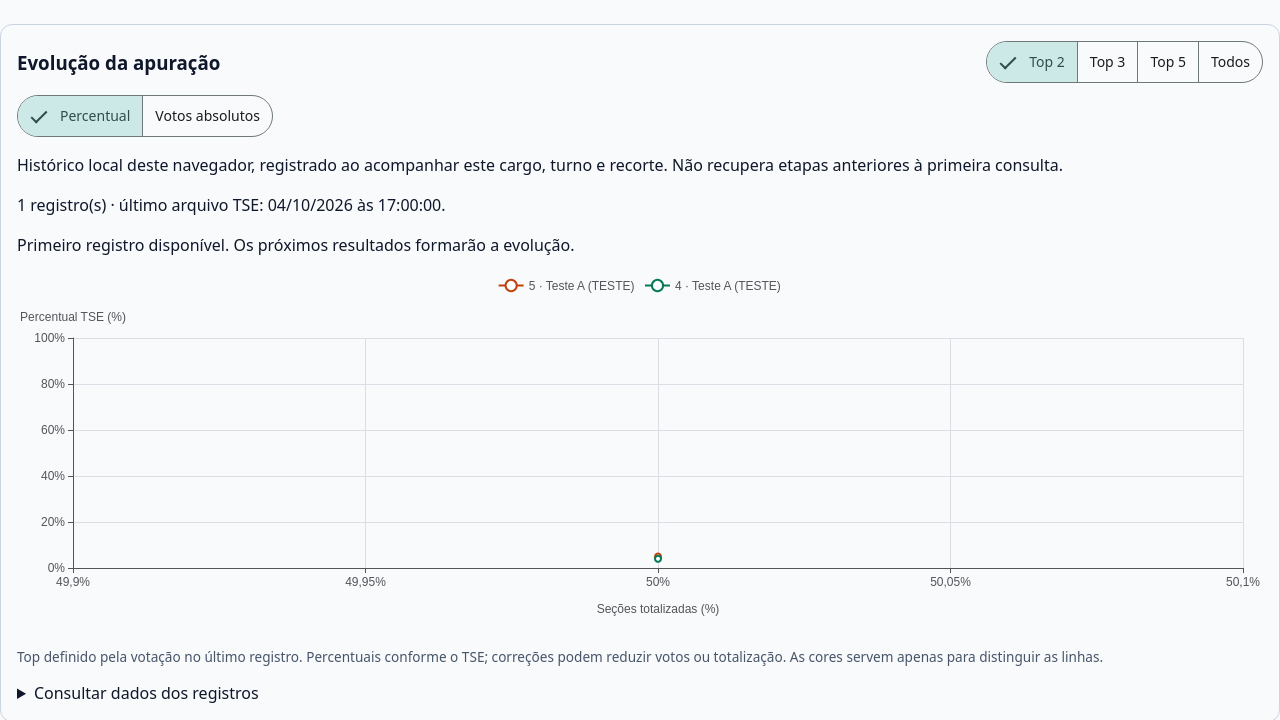
Test: Election evolution panel › updates Top 2/3/5/All from the controls and refreshes when a new observation is saved
Click the radio button labelled "Top 3". click: (1108, 62)
box: [1078, 42, 1137, 82]
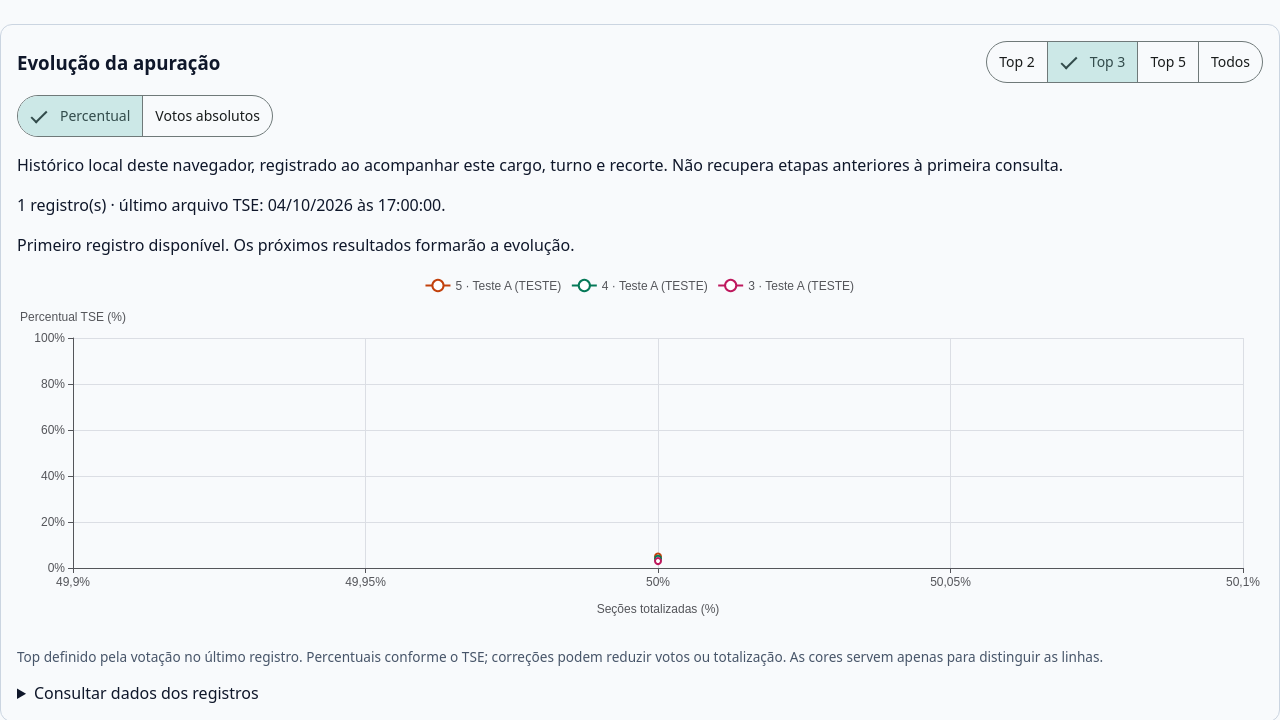
Click the radio button labelled "Top 5". click: (1168, 62)
box: [1138, 42, 1198, 82]
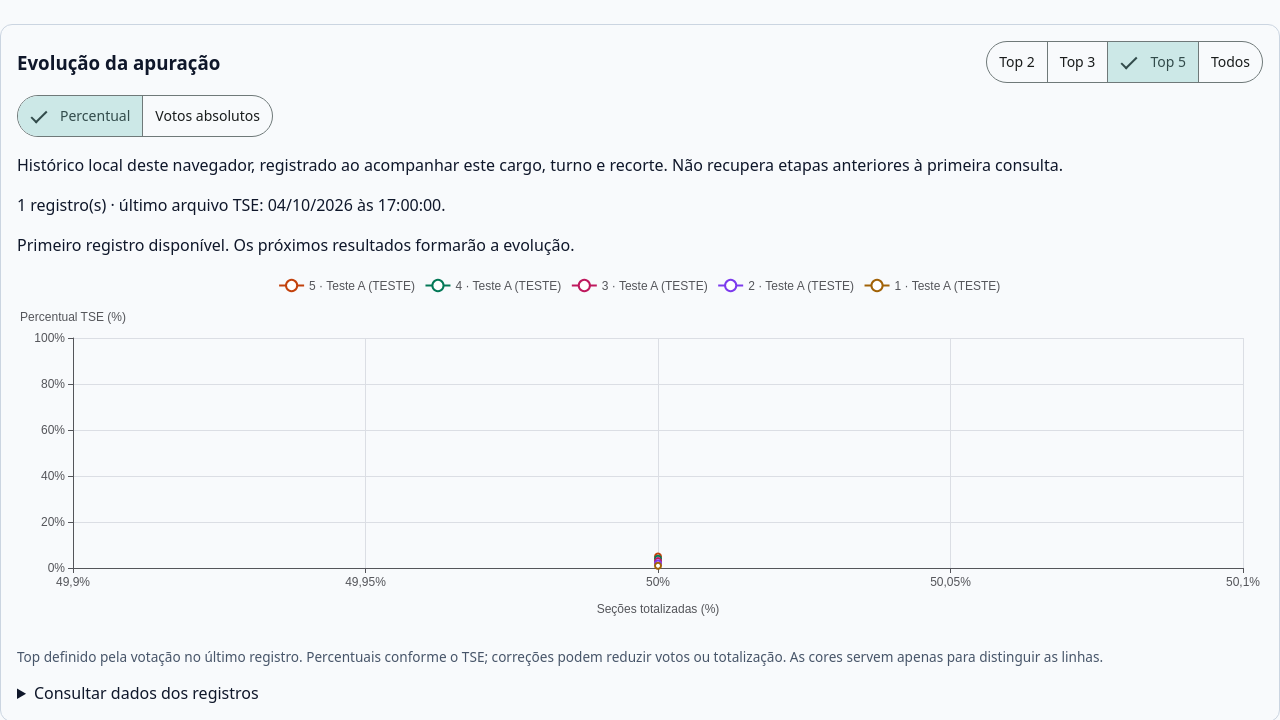
Click the radio button labelled "Todos". click: (1230, 62)
box: [1199, 42, 1262, 82]
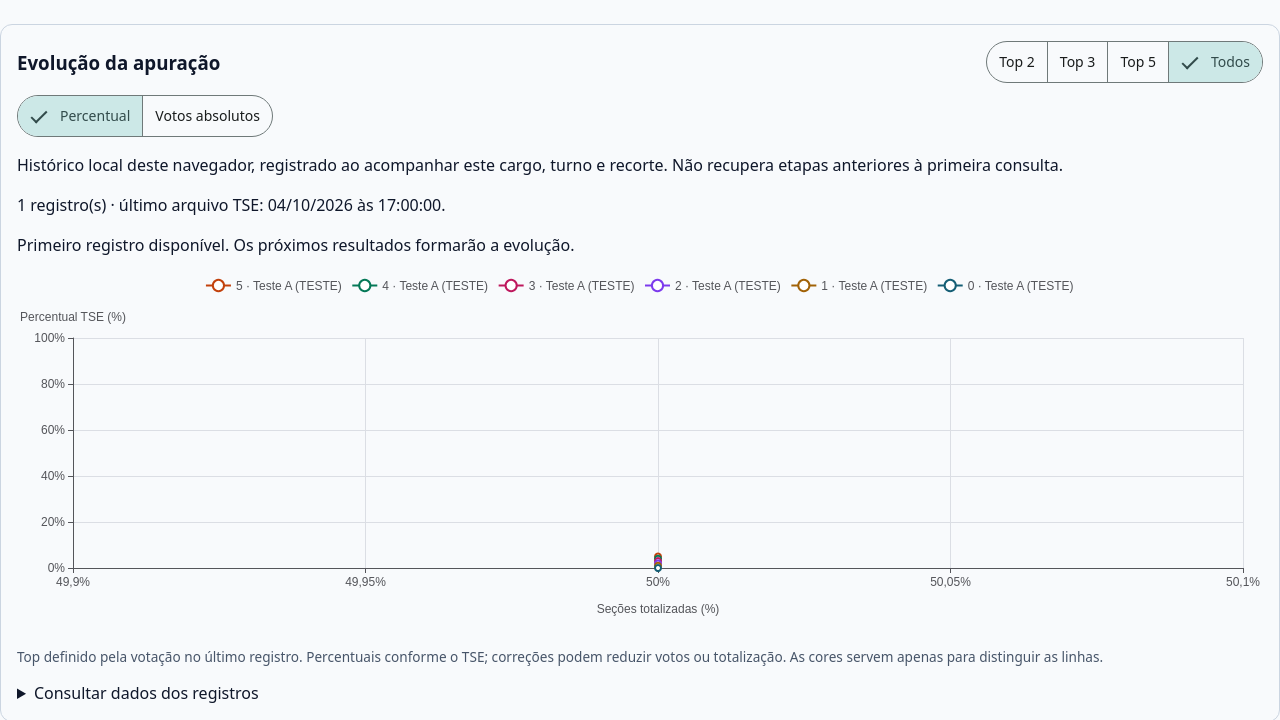
Click the radio button labelled "Top 2". click: (1017, 62)
box: [987, 42, 1047, 82]
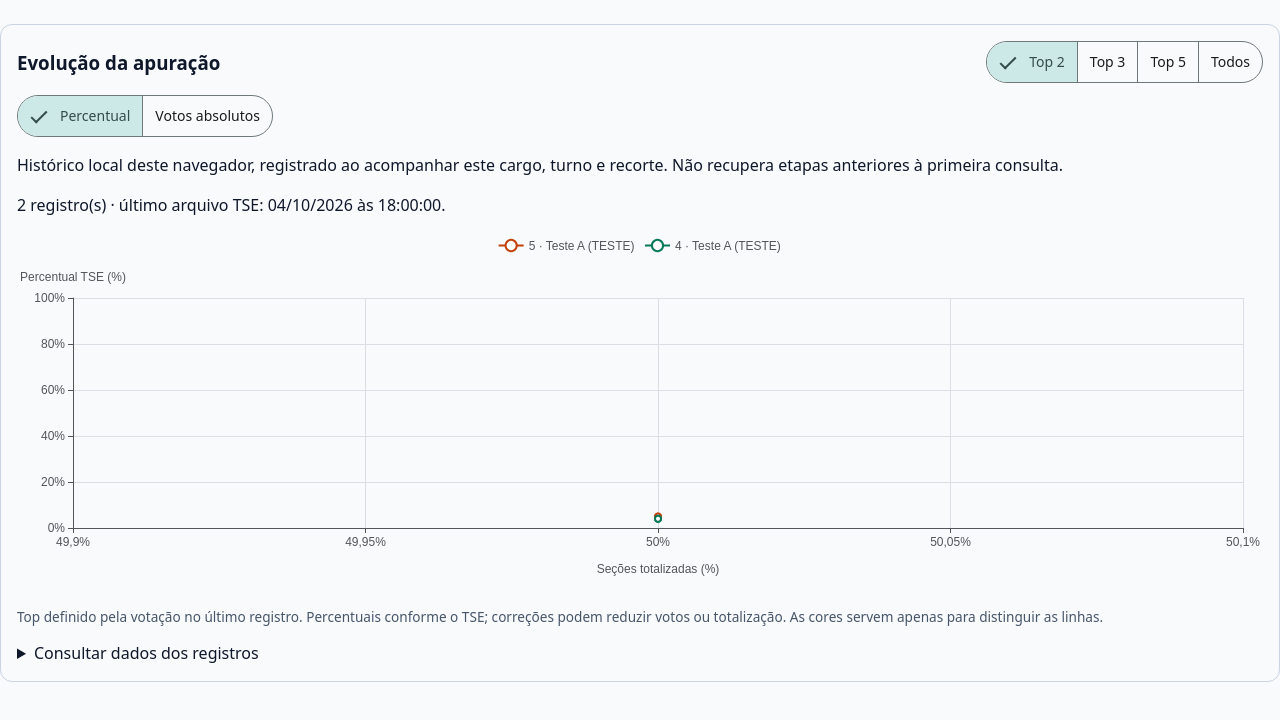
Check: the text "2 registro(s)" is shown, box [17, 194, 446, 216]
Check: the text "18:00:00" is shown, box [17, 194, 446, 216]
